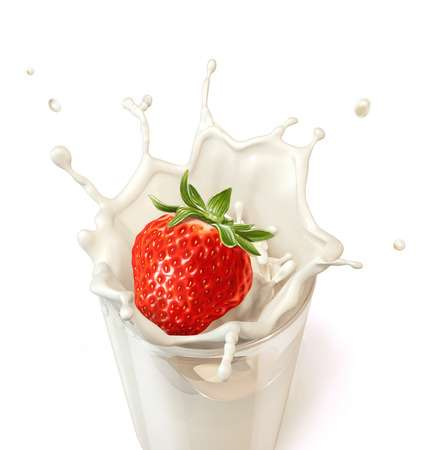glass of milk: (108, 275, 295, 450)
